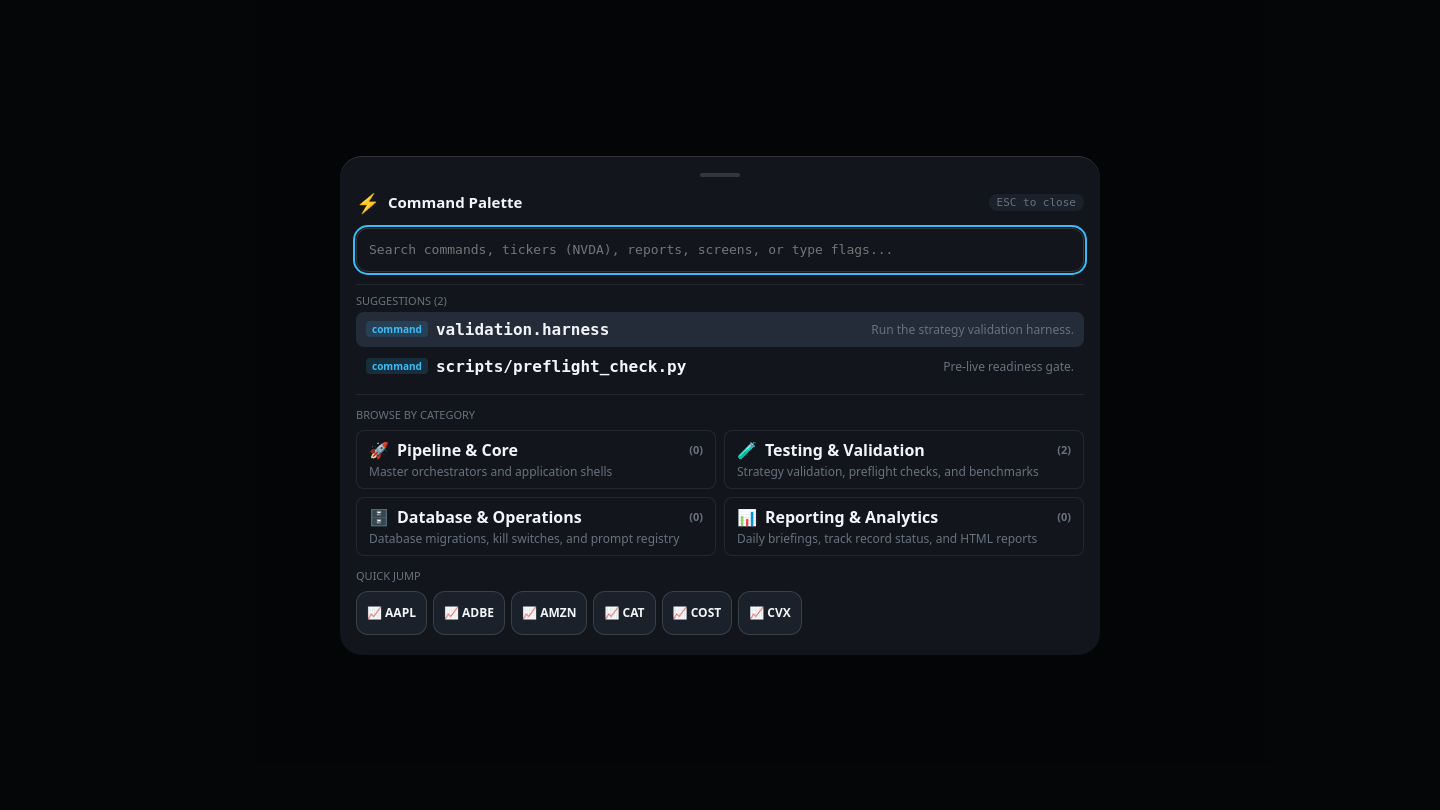
Test: CommandPaletteModal › plural --strategies suggestions come from strategyRegistry
The width and height of the screenshot is (1440, 810).
In the field with test id "command-palette-input": (720, 250) [356,228,1084,272], type "validation.harness --strategies "
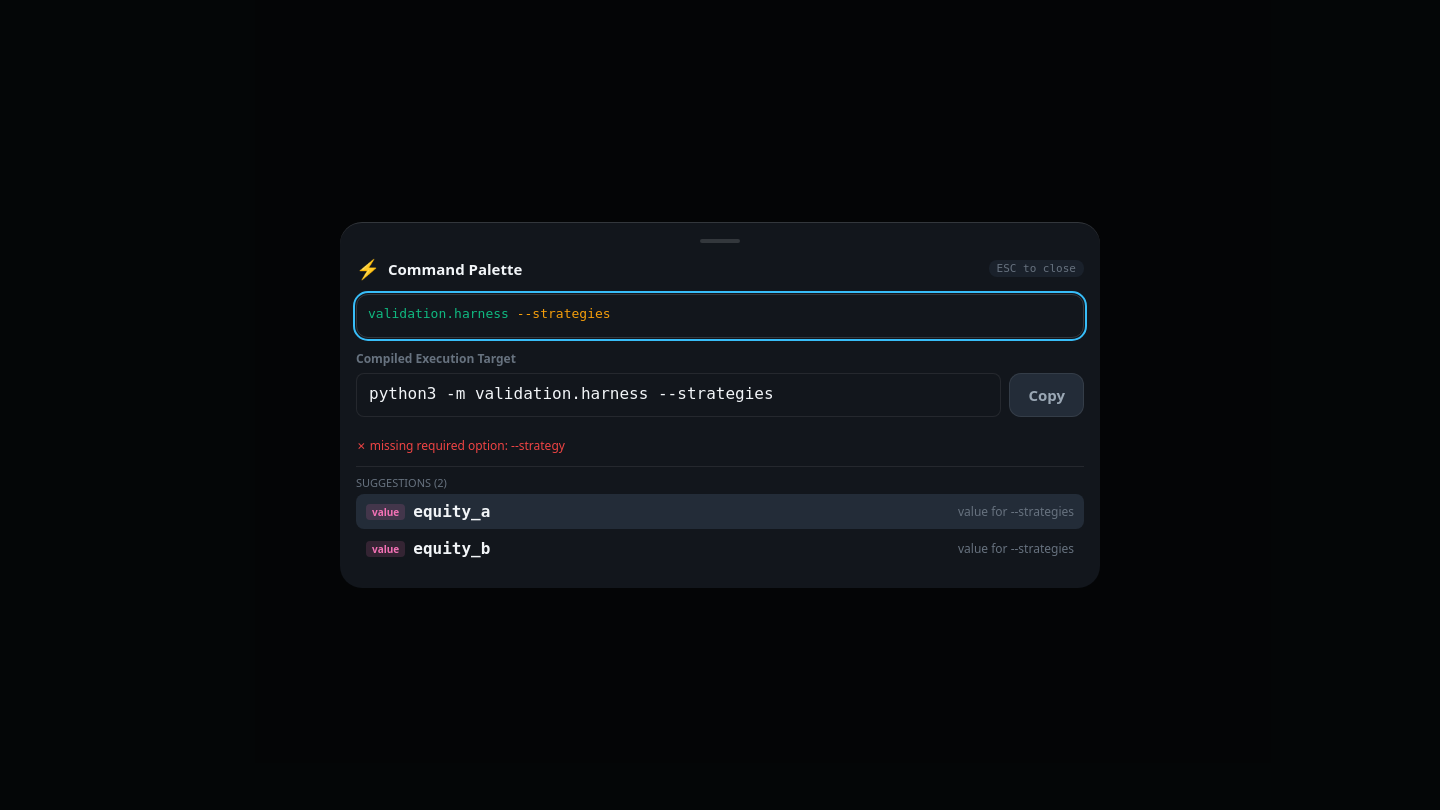
Expected: the text "equity_a" is shown, [413,502,490,521]
Expected: the text "equity_b" is shown, [413,539,490,558]
